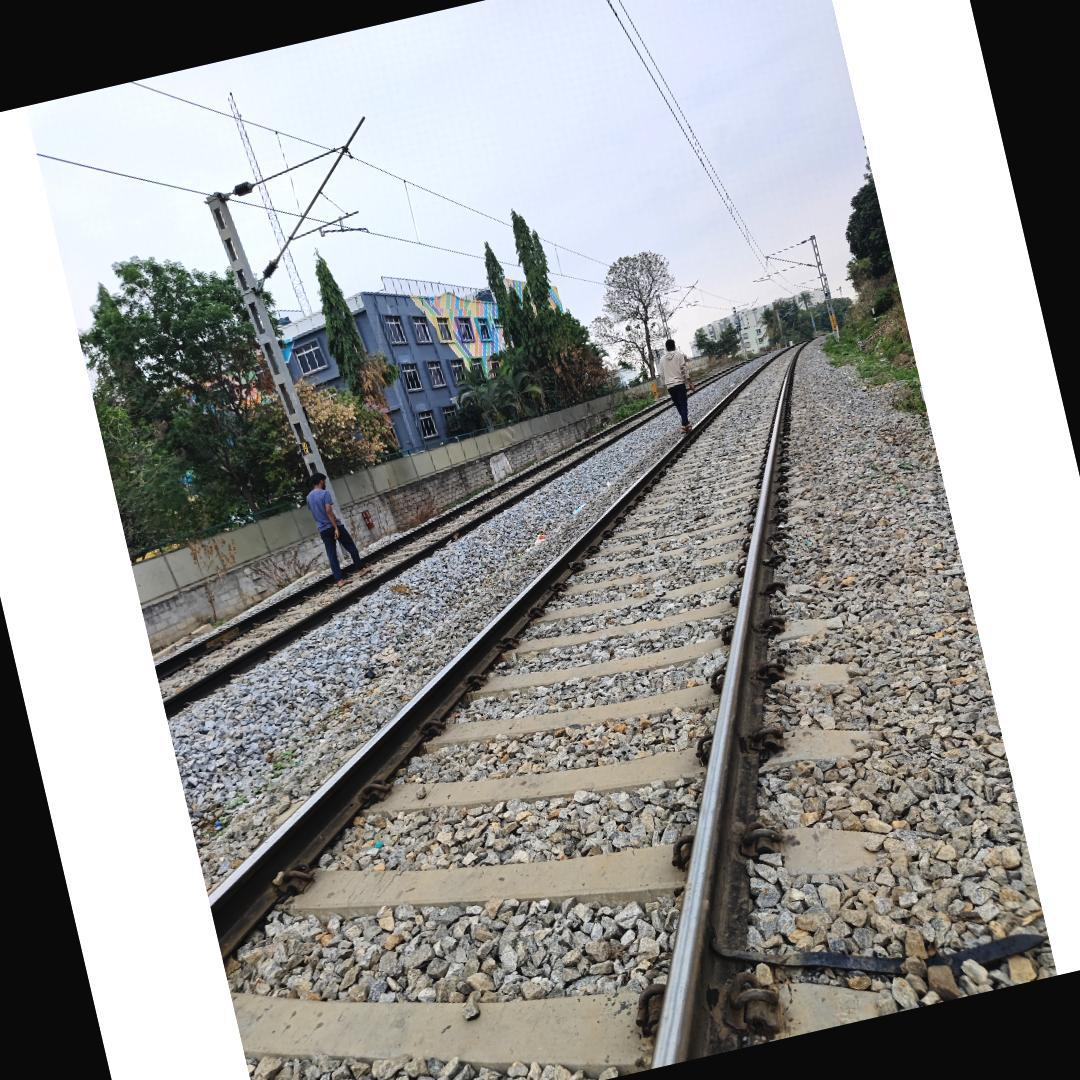standing: (287, 449, 367, 590), (297, 464, 366, 589), (645, 334, 704, 436)
track: (203, 313, 835, 1080), (151, 336, 789, 723)
